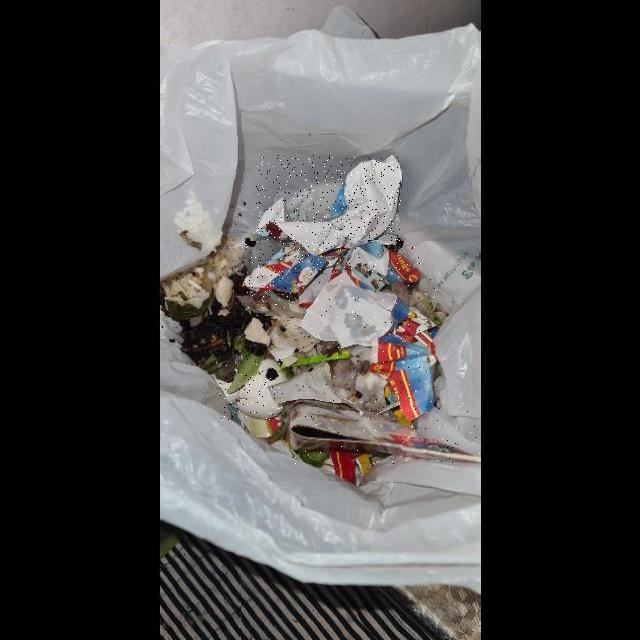biowaste: (217, 360, 288, 420)
paper: (300, 272, 438, 422), (256, 156, 401, 256), (289, 403, 480, 464), (243, 245, 351, 308), (344, 243, 422, 292)
